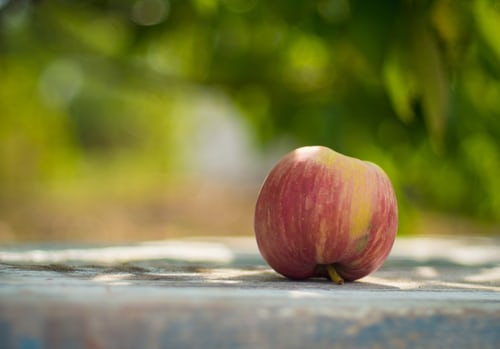apple: (254, 145, 398, 282)
